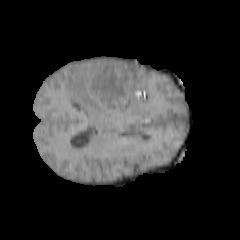glioma: (63, 60, 149, 118)
